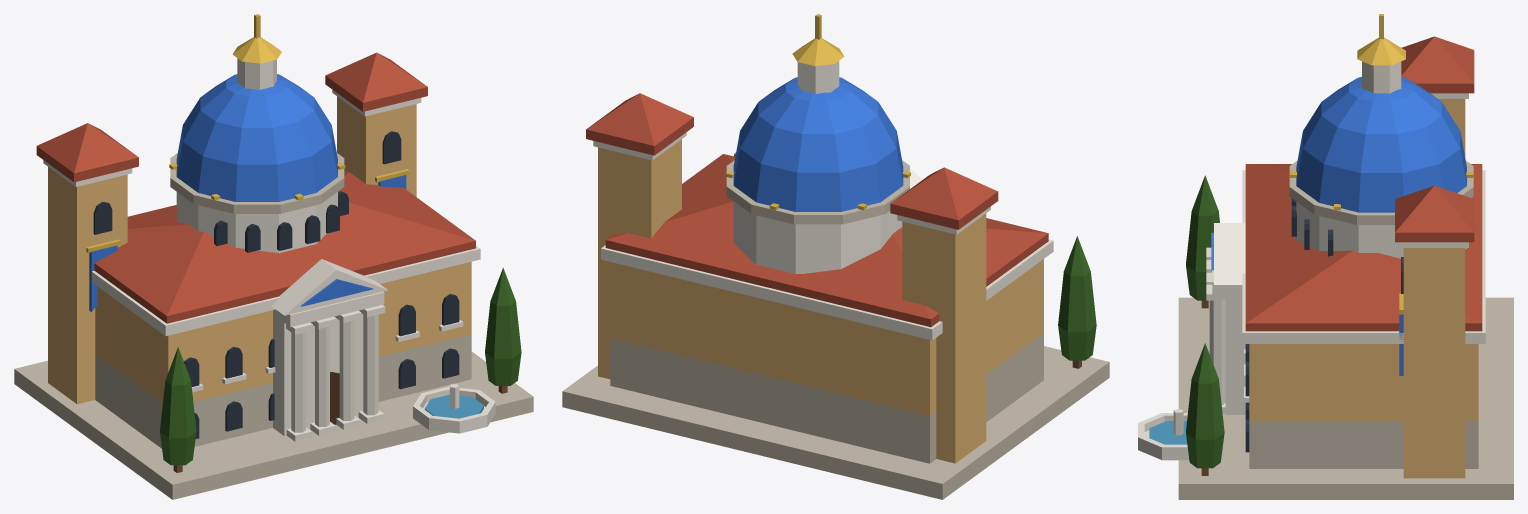
Rendered from city_center_3.glb.
3 renders of one model, left to right at view 1: azimuth 30°, elevation 25°; view 2: azimuth 150°, elevation 25°; view 3: azimuth 270°, elevation 25°, orthographic. The views are drawn at different scales.
Visible parts, largest first — view 1: city_center_3; view 2: city_center_3; view 3: city_center_3.
Part boxes in pixels (bbox=[...]): city_center_3: bbox=[14, 14, 533, 499]; city_center_3: bbox=[562, 14, 1109, 499]; city_center_3: bbox=[1138, 14, 1513, 499].
Bounding box in the file's own units: 0.5 × 0.49 × 0.4262.
